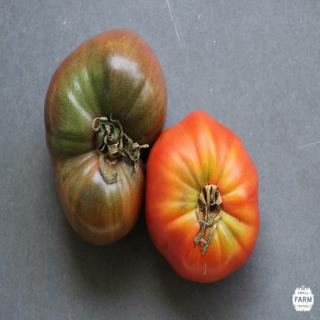tomato: (43, 28, 167, 248), (144, 106, 262, 277)
